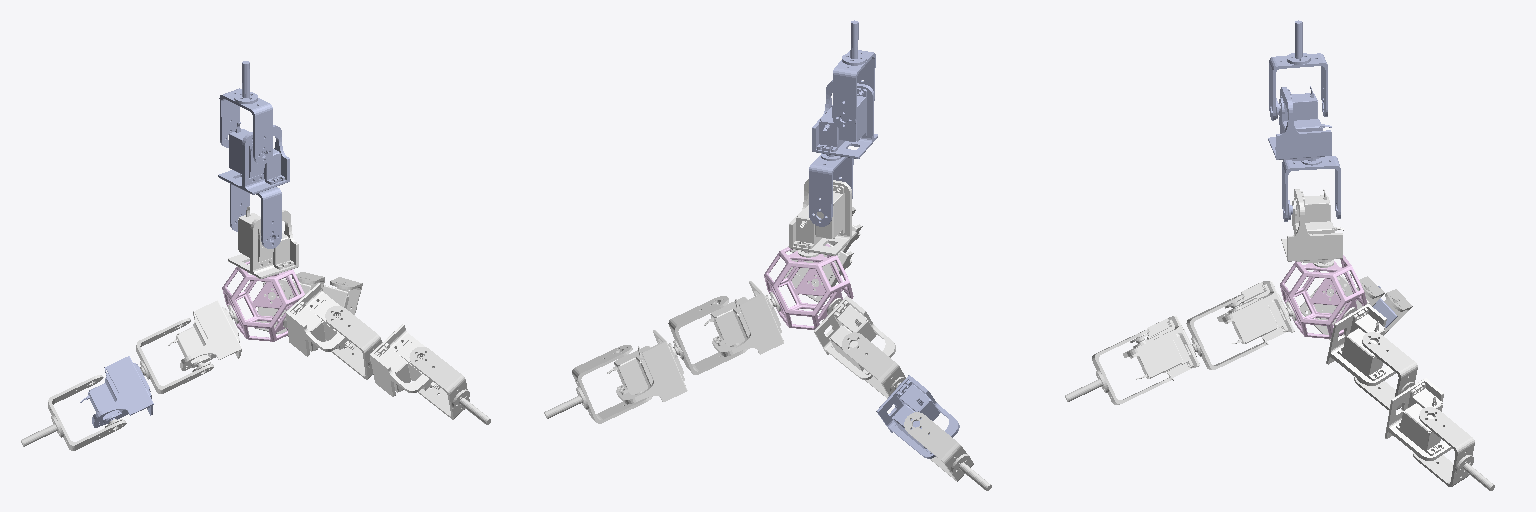
--- What the picture shows (computed from the rendered views, not written in the file) ---
Views: 3 orthographic renders of the robot side by side, from view 1: azimuth 30°, elevation 25°; view 2: azimuth 150°, elevation 25°; view 3: azimuth 270°, elevation 25°.
Model tetrabot with 17 links and 16 joints (16 revolute), rooted at base_link, posed every joint at zero.
Links seen in each view (by area): view 1: leg2_joint0, leg2_joint2, base_link, leg4_joint2, leg4_joint0, leg3_joint0, leg4_joint3, leg3_joint2, leg3_joint3, leg3_joint1, leg4_joint1, leg2_joint3 (+3 smaller); view 2: leg1_joint0, base_link, leg1_joint2, leg4_joint0, leg4_joint2, leg2_joint0, leg2_joint2, leg4_joint3, leg2_joint3, leg4_joint1, leg2_joint1, leg1_joint3 (+2 smaller); view 3: leg4_joint0, base_link, leg4_joint2, leg1_joint0, leg1_joint2, leg3_joint0, leg3_joint2, leg1_joint3, leg1_joint1, leg4_joint3, leg4_joint1, leg3_joint3 (+3 smaller).
Link boxes in pixels (<box>): leg2_joint0: <box>168,300,241,370</box>; leg2_joint2: <box>80,356,153,427</box>; base_link: <box>222,261,304,341</box>; leg4_joint2: <box>218,122,289,194</box>; leg4_joint0: <box>228,206,298,278</box>; leg3_joint0: <box>283,283,354,356</box>; leg4_joint3: <box>219,61,272,164</box>; leg3_joint2: <box>370,324,440,396</box>; leg3_joint3: <box>409,347,490,424</box>; leg3_joint1: <box>325,306,381,379</box>; leg4_joint1: <box>230,177,281,248</box>; leg2_joint3: <box>21,375,126,450</box>; leg1_joint0: <box>704,281,783,356</box>; base_link: <box>764,244,853,329</box>; leg1_joint2: <box>607,330,687,404</box>; leg4_joint0: <box>789,179,856,257</box>; leg4_joint2: <box>812,80,877,158</box>; leg2_joint0: <box>814,296,895,379</box>; leg2_joint2: <box>876,375,959,458</box>; leg4_joint3: <box>832,20,875,129</box>; leg2_joint3: <box>904,412,991,490</box>; leg4_joint1: <box>809,149,853,226</box>; leg2_joint1: <box>842,332,905,398</box>; leg1_joint3: <box>544,345,652,423</box>; leg4_joint0: <box>1281,189,1343,267</box>; base_link: <box>1280,255,1366,338</box>; leg4_joint2: <box>1268,86,1331,160</box>; leg1_joint0: <box>1326,304,1395,385</box>; leg1_joint2: <box>1385,378,1452,460</box>; leg3_joint0: <box>1217,281,1296,344</box>; leg3_joint2: <box>1123,315,1199,380</box>; leg1_joint3: <box>1413,407,1494,490</box>; leg1_joint1: <box>1354,332,1417,409</box>; leg4_joint3: <box>1269,20,1327,120</box>; leg4_joint1: <box>1282,156,1340,221</box>; leg3_joint3: <box>1065,329,1171,404</box>.
Size in the robot's own frame: 0.4657 by 0.4453 by 0.4446 metres.
17 mesh visuals loaded from 17 distinct referenced files (17 binary STL).

URDF robot description (tetrabot):
<?xml version="1.0" encoding="utf-8"?>
<!-- This URDF was automatically created by SolidWorks to URDF Exporter! Originally created by Stephen Brawner ([email redacted]) 
     Commit Version: 1.5.1-0-g916b5db  Build Version: 1.5.7152.31018
     For more information, please see http://wiki.ros.org/sw_urdf_exporter -->
<robot
  name="tetrabot">
  <link
    name="base_link">
    <inertial>
      <origin
        xyz="9.64434816243531E-05 -4.79855861341277E-06 2.45269715507795E-05"
        rpy="0 0 0" />
      <mass
        value="0.3005364970053473" />
      <inertia
        ixx="3.0536565659628E-05"
        ixy="-3.65647208623936E-08"
        ixz="4.04204308041377E-08"
        iyy="3.05008216737223E-05"
        iyz="-3.22936592969521E-08"
        izz="3.04953905866067E-05" />
    </inertial>
    <visual>
      <origin
        xyz="0 0 0"
        rpy="0 0 0" />
      <geometry>
        <mesh
          filename="package://tetrabot/meshes/base_link.STL" />
      </geometry>
      <material
        name="">
        <color
          rgba="0.992156862745098 0.882352941176471 1 1" />
      </material>
    </visual>
    <collision>
      <origin
        xyz="0 0 0"
        rpy="0 0 0" />
      <geometry>
        <mesh
          filename="package://tetrabot/meshes/base_link.STL" />
      </geometry>
      <lateral_friction value="1000.0"/>
      <rolling_friction value="0.0"/>
      <stiffness value="30000"/>
      <damping value="1000"/>
    </collision>
  </link>
  <link
    name="leg3_joint0">
    <inertial>
      <origin
        xyz="-0.00916149936539492 0.0110886942319374 -0.0277523891120397"
        rpy="0 0 0" />
      <mass
        value="0.0791390352854354" />
      <inertia
        ixx="2.61621714343296E-05"
        ixy="7.4001374694877E-07"
        ixz="2.70675767409261E-07"
        iyy="2.19292644113529E-05"
        iyz="1.50310806069393E-06"
        izz="1.98450891734132E-05" />
    </inertial>
    <visual>
      <origin
        xyz="0 0 0"
        rpy="0 0 0" />
      <geometry>
        <mesh
          filename="package://tetrabot/meshes/leg3_joint0.STL" />
      </geometry>
      <material
        name="">
        <color
          rgba="1 1 1 1" />
      </material>
    </visual>
    <collision>
      <origin
        xyz="0 0 0"
        rpy="0 0 0" />
      <geometry>
        <mesh
          filename="package://tetrabot/meshes/leg3_joint0.STL" />
      </geometry>
    </collision>
  </link>
  <joint
    name="leg3_joint0"
    type="revolute">
    <origin
      xyz="0.0122646699063804 -0.0372959348191384 -0.0138807820472492"
      rpy="1.19587661224503 0.426897238458345 -2.98540748999336" />
    <parent
      link="base_link" />
    <child
      link="leg3_joint0" />
    <axis
      xyz="0 0 -1" />
    <limit
      lower="-1.57"
      upper="1.57"
      effort="0"
      velocity="0" />
  </joint>
  <link
    name="leg3_joint1">
    <inertial>
      <origin
        xyz="0.000179531302578924 -0.0307273505796145 -0.0186672343382289"
        rpy="0 0 0" />
      <mass
        value="0.141701030409731" />
      <inertia
        ixx="1.24772926185894E-05"
        ixy="2.43985274319853E-08"
        ixz="2.5410988417629E-21"
        iyy="8.23467130946867E-06"
        iyz="0"
        izz="5.66152833361988E-06" />
    </inertial>
    <visual>
      <origin
        xyz="0 0 0"
        rpy="0 0 0" />
      <geometry>
        <mesh
          filename="package://tetrabot/meshes/leg3_joint1.STL" />
      </geometry>
      <material
        name="">
        <color
          rgba="0.917647058823529 0.917647058823529 0.917647058823529 1" />
      </material>
    </visual>
    <collision>
      <origin
        xyz="0 0 0"
        rpy="0 0 0" />
      <geometry>
        <mesh
          filename="package://tetrabot/meshes/leg3_joint1.STL" />
      </geometry>
      <lateral_friction value="1000.0"/>
      <rolling_friction value="0.0"/>
      <stiffness value="30000"/>
      <damping value="1000"/>
    </collision>
  </link>
  <joint
    name="leg3_joint1"
    type="revolute">
    <origin
      xyz="-0.020335 0.030074 -0.048834"
      rpy="1.5708 0 -3.1416" />
    <parent
      link="leg3_joint0" />
    <child
      link="leg3_joint1" />
    <axis
      xyz="0 0 -1" />
    <limit
      lower="-1.57"
      upper="1.57"
      effort="0"
      velocity="0" />
  </joint>
  <link
    name="leg3_joint2">
    <inertial>
      <origin
        xyz="-0.00926210717564058 0.0112104669021427 -0.0280957843605759"
        rpy="0 0 0" />
      <mass
        value="0.0782794014148115" />
      <inertia
        ixx="2.61393136941278E-05"
        ixy="7.40013104335533E-07"
        ixz="2.70676690473466E-07"
        iyy="2.19064070071649E-05"
        iyz="1.50310871201458E-06"
        izz="1.98015202772842E-05" />
    </inertial>
    <visual>
      <origin
        xyz="0 0 0"
        rpy="0 0 0" />
      <geometry>
        <mesh
          filename="package://tetrabot/meshes/leg3_joint2.STL" />
      </geometry>
      <material
        name="">
        <color
          rgba="1 1 1 1" />
      </material>
    </visual>
    <collision>
      <origin
        xyz="0 0 0"
        rpy="0 0 0" />
      <geometry>
        <mesh
          filename="package://tetrabot/meshes/leg3_joint2.STL" />
      </geometry>
      <lateral_friction value="1000.0"/>
      <rolling_friction value="0.0"/>
      <stiffness value="30000"/>
      <damping value="1000"/>
    </collision>
  </link>
  <joint
    name="leg3_joint2"
    type="revolute">
    <origin
      xyz="0.00034176 -0.058899 -0.0201"
      rpy="1.5708 0.042272 -3.1358" />
    <parent
      link="leg3_joint1" />
    <child
      link="leg3_joint2" />
    <axis
      xyz="0 0 -1" />
    <limit
      lower="-1.57"
      upper="1.57"
      effort="0"
      velocity="0" />
  </joint>
  <link
    name="leg3_joint3">
    <inertial>
      <origin
        xyz="0.000214978774742178 -0.0368686415677862 -0.0188840811533723"
        rpy="0 0 0" />
      <mass
        value="0.0166971974463354" />
      <inertia
        ixx="1.31643089587802E-05"
        ixy="2.79049886711712E-08"
        ixz="-1.90582413132218E-21"
        iyy="8.31740305434358E-06"
        iyz="2.11758236813575E-22"
        izz="6.34856501994648E-06" />
    </inertial>
    <visual>
      <origin
        xyz="0 0 0"
        rpy="0 0 0" />
      <geometry>
        <mesh
          filename="package://tetrabot/meshes/leg3_joint3.STL" />
      </geometry>
      <material
        name="">
        <color
          rgba="0.917647058823529 0.917647058823529 0.917647058823529 1" />
      </material>
    </visual>
    <collision>
      <origin
        xyz="0 0 0"
        rpy="0 0 0" />
      <geometry>
        <mesh
          filename="package://tetrabot/meshes/leg3_joint3.STL" />
      </geometry>
      <lateral_friction value="1000.0"/>
      <rolling_friction value="0.0"/>
      <stiffness value="30000"/>
      <damping value="1000"/>
    </collision>
  </link>
  <joint
    name="leg3_joint3"
    type="revolute">
    <origin
      xyz="-0.020335 0.030074 -0.048834"
      rpy="1.5708 0 -3.1416" />
    <parent
      link="leg3_joint2" />
    <child
      link="leg3_joint3" />
    <axis
      xyz="0 0 -1" />
    <limit
      lower="-1.57"
      upper="1.57"
      effort="0"
      velocity="0" />
  </joint>
  <link
    name="leg4_joint0">
    <inertial>
      <origin
        xyz="-0.00916148212867609 0.0110887019949551 -0.0277524071142914"
        rpy="0 0 0" />
      <mass
        value="0.079139102742506" />
      <inertia
        ixx="2.61621861686979E-05"
        ixy="7.40005013486593E-07"
        ixz="2.70693857046353E-07"
        iyy="2.19293080141942E-05"
        iyz="1.50311196526989E-06"
        izz="1.98450923475495E-05" />
    </inertial>
    <visual>
      <origin
        xyz="0 0 0"
        rpy="0 0 0" />
      <geometry>
        <mesh
          filename="package://tetrabot/meshes/leg4_joint0.STL" />
      </geometry>
      <material
        name="">
        <color
          rgba="1 1 1 1" />
      </material>
    </visual>
    <collision>
      <origin
        xyz="0 0 0"
        rpy="0 0 0" />
      <geometry>
        <mesh
          filename="package://tetrabot/meshes/leg4_joint0.STL" />
      </geometry>
      <lateral_friction value="1000.0"/>
      <rolling_friction value="0.0"/>
      <stiffness value="30000"/>
      <damping value="1000"/>
    </collision>
  </link>
  <joint
    name="leg4_joint0"
    type="revolute">
    <origin
      xyz="0 0 0.041642"
      rpy="-3.1416 0 0.13007" />
    <parent
      link="base_link" />
    <child
      link="leg4_joint0" />
    <axis
      xyz="0 0 -1" />
    <limit
      lower="-1.57"
      upper="1.57"
      effort="0"
      velocity="0" />
  </joint>
  <link
    name="leg4_joint1">
    <inertial>
      <origin
        xyz="0.000179531302578938 -0.0307273505796145 -0.0186672343382289"
        rpy="0 0 0" />
      <mass
        value="0.141701030409731" />
      <inertia
        ixx="1.24772926185894E-05"
        ixy="2.43985274319805E-08"
        ixz="2.75285707857648E-21"
        iyy="8.23467130946867E-06"
        iyz="2.91167575618666E-21"
        izz="5.66152833361989E-06" />
    </inertial>
    <visual>
      <origin
        xyz="0 0 0"
        rpy="0 0 0" />
      <geometry>
        <mesh
          filename="package://tetrabot/meshes/leg4_joint1.STL" />
      </geometry>
      <material
        name="">
        <color
          rgba="0.792156862745098 0.819607843137255 0.933333333333333 1" />
      </material>
    </visual>
    <collision>
      <origin
        xyz="0 0 0"
        rpy="0 0 0" />
      <geometry>
        <mesh
          filename="package://tetrabot/meshes/leg4_joint1.STL" />
      </geometry>
      <lateral_friction value="1000.0"/>
      <rolling_friction value="0.0"/>
      <stiffness value="30000"/>
      <damping value="1000"/>
    </collision>
  </link>
  <joint
    name="leg4_joint1"
    type="revolute">
    <origin
      xyz="-0.020335400416483 0.030073864314911 -0.0488338729858982"
      rpy="1.5707963267949 0 3.14159265358979" />
    <parent
      link="leg4_joint0" />
    <child
      link="leg4_joint1" />
    <axis
      xyz="0 0 -1" />
    <limit
      lower="-1.57"
      upper="1.57"
      effort="0"
      velocity="0" />
  </joint>
  <link
    name="leg4_joint2">
    <inertial>
      <origin
        xyz="-0.00926208982166998 0.01121047385191 -0.0280958019100969"
        rpy="0 0 0" />
      <mass
        value="0.0782794676982518" />
      <inertia
        ixx="2.6139327203401E-05"
        ixy="7.40005201198541E-07"
        ixz="2.70694462244788E-07"
        iyy="2.19064494615639E-05"
        iyz="1.50311178030552E-06"
        izz="1.98015232046659E-05" />
    </inertial>
    <visual>
      <origin
        xyz="0 0 0"
        rpy="0 0 0" />
      <geometry>
        <mesh
          filename="package://tetrabot/meshes/leg4_joint2.STL" />
      </geometry>
      <material
        name="">
        <color
          rgba="0.792156862745098 0.819607843137255 0.933333333333333 1" />
      </material>
    </visual>
    <collision>
      <origin
        xyz="0 0 0"
        rpy="0 0 0" />
      <geometry>
        <mesh
          filename="package://tetrabot/meshes/leg4_joint2.STL" />
      </geometry>
      <lateral_friction value="1000.0"/>
      <rolling_friction value="0.0"/>
      <stiffness value="30000"/>
      <damping value="1000"/>
    </collision>
  </link>
  <joint
    name="leg4_joint2"
    type="revolute">
    <origin
      xyz="0.000341759724446909 -0.058899008483087 -0.0201"
      rpy="1.5707963267949 0.0422722148042326 -3.13579024879902" />
    <parent
      link="leg4_joint1" />
    <child
      link="leg4_joint2" />
    <axis
      xyz="0 0 -1" />
    <limit
      lower="-1.57"
      upper="1.57"
      effort="0"
      velocity="0" />
  </joint>
  <link
    name="leg4_joint3">
    <inertial>
      <origin
        xyz="0.000214978774742199 -0.0368686415677862 -0.0188840811533722"
        rpy="0 0 0" />
      <mass
        value="0.0166971974463354" />
      <inertia
        ixx="1.31643089587802E-05"
        ixy="2.7904988671171E-08"
        ixz="2.75285707857648E-21"
        iyy="8.31740305434359E-06"
        iyz="3.46754112782229E-21"
        izz="6.34856501994647E-06" />
    </inertial>
    <visual>
      <origin
        xyz="0 0 0"
        rpy="0 0 0" />
      <geometry>
        <mesh
          filename="package://tetrabot/meshes/leg4_joint3.STL" />
      </geometry>
      <material
        name="">
        <color
          rgba="0.792156862745098 0.819607843137255 0.933333333333333 1" />
      </material>
    </visual>
    <collision>
      <origin
        xyz="0 0 0"
        rpy="0 0 0" />
      <geometry>
        <mesh
          filename="package://tetrabot/meshes/leg4_joint3.STL" />
      </geometry>
      <lateral_friction value="1000.0"/>
      <rolling_friction value="0.0"/>
      <stiffness value="30000"/>
      <damping value="1000"/>
    </collision>
  </link>
  <joint
    name="leg4_joint3"
    type="revolute">
    <origin
      xyz="-0.0203354004164829 0.030073864314911 -0.0488338729858982"
      rpy="1.5707963267949 0 3.14159265358979" />
    <parent
      link="leg4_joint2" />
    <child
      link="leg4_joint3" />
    <axis
      xyz="0 0 -1" />
    <limit
      lower="-1.57"
      upper="1.57"
      effort="0"
      velocity="0" />
  </joint>
  <link
    name="leg2_joint0">
    <inertial>
      <origin
        xyz="-0.00916147923912866 0.0110886962963217 -0.0277524128093545"
        rpy="0 0 0" />
      <mass
        value="0.0791391343950906" />
      <inertia
        ixx="2.61622323497876E-05"
        ixy="7.40007714111858E-07"
        ixz="2.70707221481747E-07"
        iyy="2.19293433392343E-05"
        iyz="1.50311468036353E-06"
        izz="1.98451131673556E-05" />
    </inertial>
    <visual>
      <origin
        xyz="0 0 0"
        rpy="0 0 0" />
      <geometry>
        <mesh
          filename="package://tetrabot/meshes/leg2_joint0.STL" />
      </geometry>
      <material
        name="">
        <color
          rgba="1 1 1 1" />
      </material>
    </visual>
    <collision>
      <origin
        xyz="0 0 0"
        rpy="0 0 0" />
      <geometry>
        <mesh
          filename="package://tetrabot/meshes/leg2_joint0.STL" />
      </geometry>
      <lateral_friction value="1000.0"/>
      <rolling_friction value="0.0"/>
      <stiffness value="30000"/>
      <damping value="1000"/>
    </collision>
  </link>
  <joint
    name="leg2_joint0"
    type="revolute">
    <origin
      xyz="-0.038432 0.0080265 -0.013881"
      rpy="-1.1439 -0.6349 -2.0402" />
    <parent
      link="base_link" />
    <child
      link="leg2_joint0" />
    <axis
      xyz="0 0 -1" />
    <limit
      lower="-1.57"
      upper="1.57"
      effort="0"
      velocity="0" />
  </joint>
  <link
    name="leg2_joint1">
    <inertial>
      <origin
        xyz="0.000179531302578931 -0.0307273505796145 -0.018667234338229"
        rpy="0 0 0" />
      <mass
        value="0.141701030409731" />
      <inertia
        ixx="1.24772926185894E-05"
        ixy="2.43985274319866E-08"
        ixz="-1.48230765769503E-21"
        iyy="8.23467130946867E-06"
        iyz="-2.5410988417629E-21"
        izz="5.66152833361988E-06" />
    </inertial>
    <visual>
      <origin
        xyz="0 0 0"
        rpy="0 0 0" />
      <geometry>
        <mesh
          filename="package://tetrabot/meshes/leg2_joint1.STL" />
      </geometry>
      <material
        name="">
        <color
          rgba="0.917647058823529 0.917647058823529 0.917647058823529 1" />
      </material>
    </visual>
    <collision>
      <origin
        xyz="0 0 0"
        rpy="0 0 0" />
      <geometry>
        <mesh
          filename="package://tetrabot/meshes/leg2_joint1.STL" />
      </geometry>
      <lateral_friction value="1000.0"/>
      <rolling_friction value="0.0"/>
      <stiffness value="30000"/>
      <damping value="1000"/>
    </collision>
  </link>
  <joint
    name="leg2_joint1"
    type="revolute">
    <origin
      xyz="-0.0203354004164829 0.030073864314911 -0.0488338729858981"
      rpy="1.5707963267949 0 -3.14159265358979" />
    <parent
      link="leg2_joint0" />
    <child
      link="leg2_joint1" />
    <axis
      xyz="0 0 -1" />
    <limit
      lower="-1.57"
      upper="1.57"
      effort="0"
      velocity="0" />
  </joint>
  <link
    name="leg2_joint2">
    <inertial>
      <origin
        xyz="-0.00926208833406308 0.0112104678560717 -0.0280958061489788"
        rpy="0 0 0" />
      <mass
        value="0.0782794936103767" />
      <inertia
        ixx="2.61393711209684E-05"
        ixy="7.40008227724327E-07"
        ixz="2.70706005587354E-07"
        iyy="2.190648060257E-05"
        iyz="1.50311438095934E-06"
        izz="1.98015429101262E-05" />
    </inertial>
    <visual>
      <origin
        xyz="0 0 0"
        rpy="0 0 0" />
      <geometry>
        <mesh
          filename="package://tetrabot/meshes/leg2_joint2.STL" />
      </geometry>
      <material
        name="">
        <color
          rgba="0.792156862745098 0.819607843137255 0.933333333333333 1" />
      </material>
    </visual>
    <collision>
      <origin
        xyz="0 0 0"
        rpy="0 0 0" />
      <geometry>
        <mesh
          filename="package://tetrabot/meshes/leg2_joint2.STL" />
      </geometry>
      <lateral_friction value="1000.0"/>
      <rolling_friction value="0.0"/>
      <stiffness value="30000"/>
      <damping value="1000"/>
    </collision>
  </link>
  <joint
    name="leg2_joint2"
    type="revolute">
    <origin
      xyz="0.000341759724446927 -0.058899008483087 -0.0201"
      rpy="1.5707963267949 0.0422722148042331 -3.13579024879902" />
    <parent
      link="leg2_joint1" />
    <child
      link="leg2_joint2" />
    <axis
      xyz="0 0 -1" />
    <limit
      lower="-1.57"
      upper="1.57"
      effort="0"
      velocity="0" />
  </joint>
  <link
    name="leg2_joint3">
    <inertial>
      <origin
        xyz="0.00021497877474215 -0.0368686415677862 -0.0188840811533723"
        rpy="0 0 0" />
      <mass
        value="0.0166971974463354" />
      <inertia
        ixx="1.31643089587802E-05"
        ixy="2.79049886711691E-08"
        ixz="1.05879118406788E-21"
        iyy="8.31740305434357E-06"
        iyz="3.59989002583078E-21"
        izz="6.34856501994649E-06" />
    </inertial>
    <visual>
      <origin
        xyz="0 0 0"
        rpy="0 0 0" />
      <geometry>
        <mesh
          filename="package://tetrabot/meshes/leg2_joint3.STL" />
      </geometry>
      <material
        name="">
        <color
          rgba="0.917647058823529 0.917647058823529 0.917647058823529 1" />
      </material>
    </visual>
    <collision>
      <origin
        xyz="0 0 0"
        rpy="0 0 0" />
      <geometry>
        <mesh
          filename="package://tetrabot/meshes/leg2_joint3.STL" />
      </geometry>
      <lateral_friction value="1000.0"/>
      <rolling_friction value="0.0"/>
      <stiffness value="30000"/>
      <damping value="1000"/>
    </collision>
  </link>
  <joint
    name="leg2_joint3"
    type="revolute">
    <origin
      xyz="-0.0203354004164829 0.030073864314911 -0.0488338729858981"
      rpy="1.5707963267949 0 -3.14159265358979" />
    <parent
      link="leg2_joint2" />
    <child
      link="leg2_joint3" />
    <axis
      xyz="0 0 -1" />
    <limit
      lower="-1.57"
      upper="1.57"
      effort="0"
      velocity="0" />
  </joint>
  <link
    name="leg1_joint0">
    <inertial>
      <origin
        xyz="-0.00916148598046012 0.0110887080193846 -0.027752404510583"
        rpy="0 0 0" />
      <mass
        value="0.0791390925701712" />
      <inertia
        ixx="2.61621942874453E-05"
        ixy="7.39998566076172E-07"
        ixz="2.7069208935904E-07"
        iyy="2.19293061147975E-05"
        iyz="1.50311928882464E-06"
        izz="1.98450947266466E-05" />
    </inertial>
    <visual>
      <origin
        xyz="0 0 0"
        rpy="0 0 0" />
      <geometry>
        <mesh
          filename="package://tetrabot/meshes/leg1_joint0.STL" />
      </geometry>
      <material
        name="">
        <color
          rgba="1 1 1 1" />
      </material>
    </visual>
    <collision>
      <origin
        xyz="0 0 0"
        rpy="0 0 0" />
      <geometry>
        <mesh
          filename="package://tetrabot/meshes/leg1_joint0.STL" />
      </geometry>
      <lateral_friction value="1000.0"/>
      <rolling_friction value="0.0"/>
      <stiffness value="30000"/>
      <damping value="1000"/>
    </collision>
  </link>
  <joint
    name="leg1_joint0"
    type="revolute">
    <origin
      xyz="0.0261668920580726 0.0292694831175248 -0.0138807820472492"
      rpy="-1.22757384079111 -0.137799875702434 2.36305285156344" />
    <parent
      link="base_link" />
    <child
      link="leg1_joint0" />
    <axis
      xyz="0 0 -1" />
    <limit
      lower="-1.57"
      upper="1.57"
      effort="0"
      velocity="0" />
  </joint>
  <link
    name="leg1_joint1">
    <inertial>
      <origin
        xyz="0.000179531302578931 -0.0307273505796145 -0.0186672343382289"
        rpy="0 0 0" />
      <mass
        value="0.141701030409731" />
      <inertia
        ixx="1.24772926185894E-05"
        ixy="2.4398527431985E-08"
        ixz="-2.40213249885399E-21"
        iyy="8.23467130946867E-06"
        iyz="7.94093388050907E-21"
        izz="5.66152833361988E-06" />
    </inertial>
    <visual>
      <origin
        xyz="0 0 0"
        rpy="0 0 0" />
      <geometry>
        <mesh
          filename="package://tetrabot/meshes/leg1_joint1.STL" />
      </geometry>
      <material
        name="">
        <color
          rgba="0.917647058823529 0.917647058823529 0.917647058823529 1" />
      </material>
    </visual>
    <collision>
      <origin
        xyz="0 0 0"
        rpy="0 0 0" />
      <geometry>
        <mesh
          filename="package://tetrabot/meshes/leg1_joint1.STL" />
      </geometry>
      <lateral_friction value="1000.0"/>
      <rolling_friction value="0.0"/>
      <stiffness value="30000"/>
      <damping value="1000"/>
    </collision>
  </link>
  <joint
    name="leg1_joint1"
    type="revolute">
    <origin
      xyz="-0.0203354004164829 0.030073864314911 -0.0488338729858982"
      rpy="1.5707963267949 0 -3.14159265358979" />
    <parent
      link="leg1_joint0" />
    <child
      link="leg1_joint1" />
    <axis
      xyz="0 0 -1" />
    <limit
      lower="-1.57"
      upper="1.57"
      effort="0"
      velocity="0" />
  </joint>
  <link
    name="leg1_joint2">
    <inertial>
      <origin
        xyz="-0.00926209277260614 0.0112104820730662 -0.0280958002943798"
        rpy="0 0 0" />
      <mass
        value="0.0782794611292867" />
      <inertia
        ixx="2.61393364615734E-05"
        ixy="7.39996458273451E-07"
        ixz="2.70693820921705E-07"
        iyy="2.19064503407389E-05"
        iyz="1.50312077600216E-06"
        izz="1.98015255872019E-05" />
    </inertial>
    <visual>
      <origin
        xyz="0 0 0"
        rpy="0 0 0" />
      <geometry>
        <mesh
          filename="package://tetrabot/meshes/leg1_joint2.STL" />
      </geometry>
      <material
        name="">
        <color
          rgba="1 1 1 1" />
      </material>
    </visual>
    <collision>
      <origin
        xyz="0 0 0"
        rpy="0 0 0" />
      <geometry>
        <mesh
          filename="package://tetrabot/meshes/leg1_joint2.STL" />
      </geometry>
      <lateral_friction value="1000.0"/>
      <rolling_friction value="0.0"/>
      <stiffness value="30000"/>
      <damping value="1000"/>
    </collision>
  </link>
  <joint
    name="leg1_joint2"
    type="revolute">
    <origin
      xyz="0.000341759724446923 -0.058899008483087 -0.0201"
      rpy="1.5707963267949 0.0422722148042329 -3.13579024879902" />
    <parent
      link="leg1_joint1" />
    <child
      link="leg1_joint2" />
    <axis
      xyz="0 0 -1" />
    <limit
      lower="-1.57"
      upper="1.57"
      effort="0"
      velocity="0" />
  </joint>
  <link
    name="leg1_joint3">
    <inertial>
      <origin
        xyz="0.000214978774742136 -0.0368686415677862 -0.0188840811533723"
        rpy="0 0 0" />
      <mass
        value="0.0166971974463354" />
      <inertia
        ixx="1.31643089587802E-05"
        ixy="2.79049886711705E-08"
        ixz="2.36904527435187E-21"
        iyy="8.31740305434358E-06"
        iyz="4.34104385467829E-21"
        izz="6.34856501994649E-06" />
    </inertial>
    <visual>
      <origin
        xyz="0 0 0"
        rpy="0 0 0" />
      <geometry>
        <mesh
          filename="package://tetrabot/meshes/leg1_joint3.STL" />
      </geometry>
      <material
        name="">
        <color
          rgba="0.917647058823529 0.917647058823529 0.917647058823529 1" />
      </material>
    </visual>
    <collision>
      <origin
        xyz="0 0 0"
        rpy="0 0 0" />
      <geometry>
        <mesh
          filename="package://tetrabot/meshes/leg1_joint3.STL" />
      </geometry>
      <lateral_friction value="1000.0"/>
      <rolling_friction value="0.0"/>
      <stiffness value="30000"/>
      <damping value="1000"/>
    </collision>
  </link>
  <joint
    name="leg1_joint3"
    type="revolute">
    <origin
      xyz="-0.0203354004164829 0.030073864314911 -0.0488338729858982"
      rpy="1.5707963267949 0 3.14159265358979" />
    <parent
      link="leg1_joint2" />
    <child
      link="leg1_joint3" />
    <axis
      xyz="0 0 -1" />
    <limit
      lower="-1.57"
      upper="1.57"
      effort="0"
      velocity="0" />
  </joint>
</robot>
